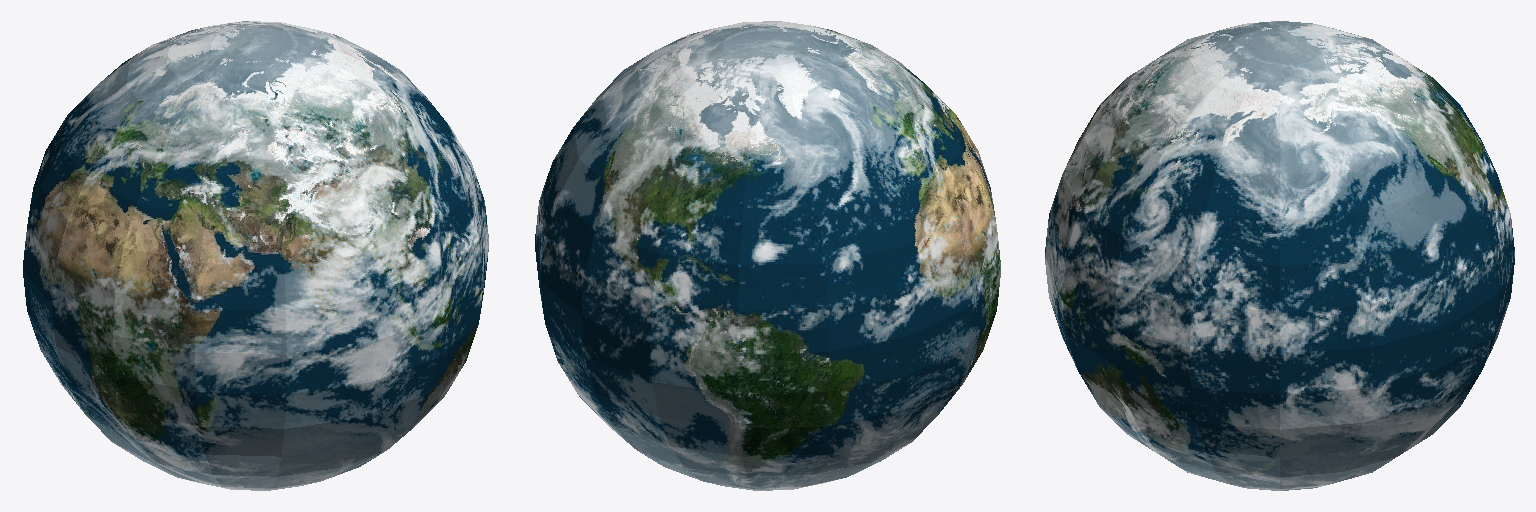
The picture shows the model from 3 angles: view 1: azimuth 30°, elevation 25°; view 2: azimuth 150°, elevation 25°; view 3: azimuth 270°, elevation 25°; orthographic projection.
Parts seen in each view (by area): view 1: g0; view 2: g0; view 3: g0.
Boxes of the visible parts, box(x1,y1,x2,y2) form: g0: box(23, 21, 488, 490); g0: box(535, 21, 1000, 490); g0: box(1045, 21, 1514, 490).
Size of the model in its own units: 1.95 by 1.95 by 1.95.
1 materials, 1 textured.